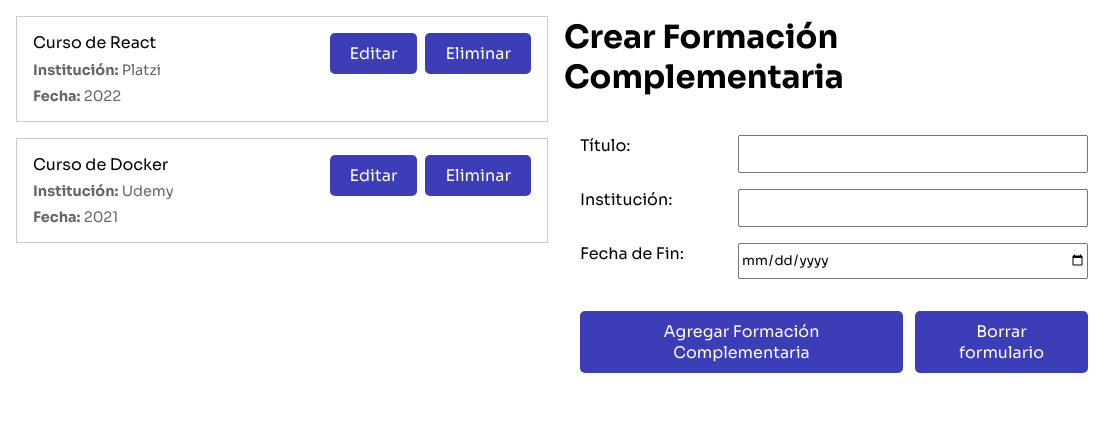
Test: <FormacionComplementaria /> › si api.post falla no se pinta Card nueva y avisa del error
Type "Curso de Vitest" into the field labelled "Título:" at [913, 154], box left=738, top=135, right=1088, bottom=173
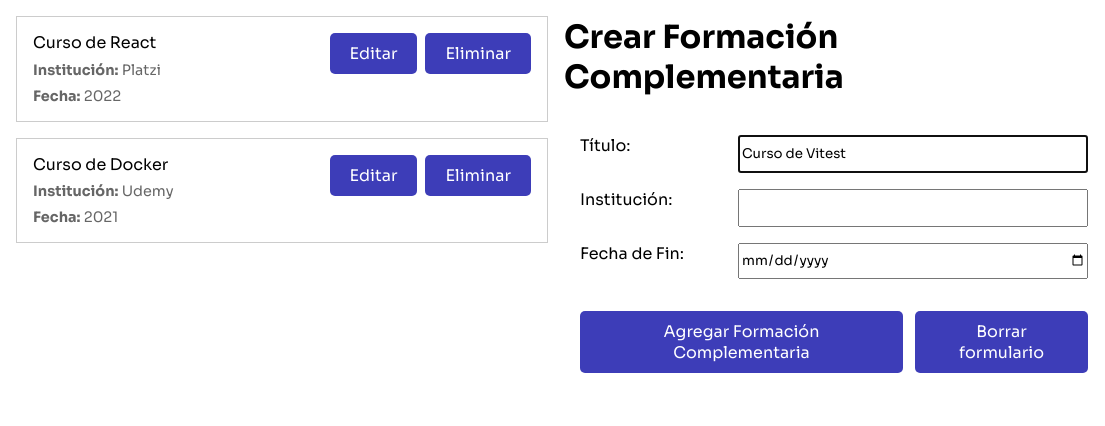
Type "Testing Library" into the field labelled "Institución:" at [913, 208], box left=738, top=189, right=1088, bottom=227
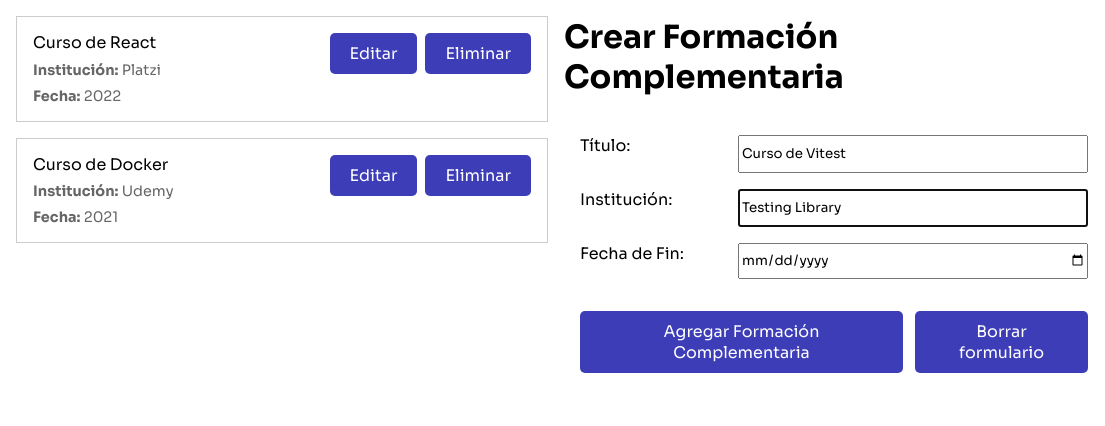
Click the button "Agregar Formación Complementaria" at [742, 342], box left=580, top=311, right=903, bottom=373
Wait 1000 ms
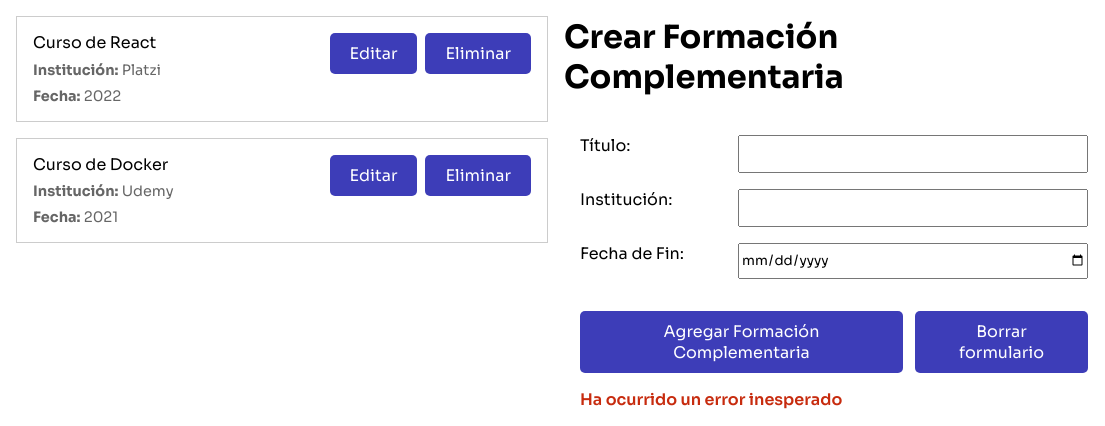
Check: the text "Curso de Vitest" is not shown
Check: the text "Ha ocurrido un error inesperado" is shown, box left=580, top=389, right=842, bottom=410
